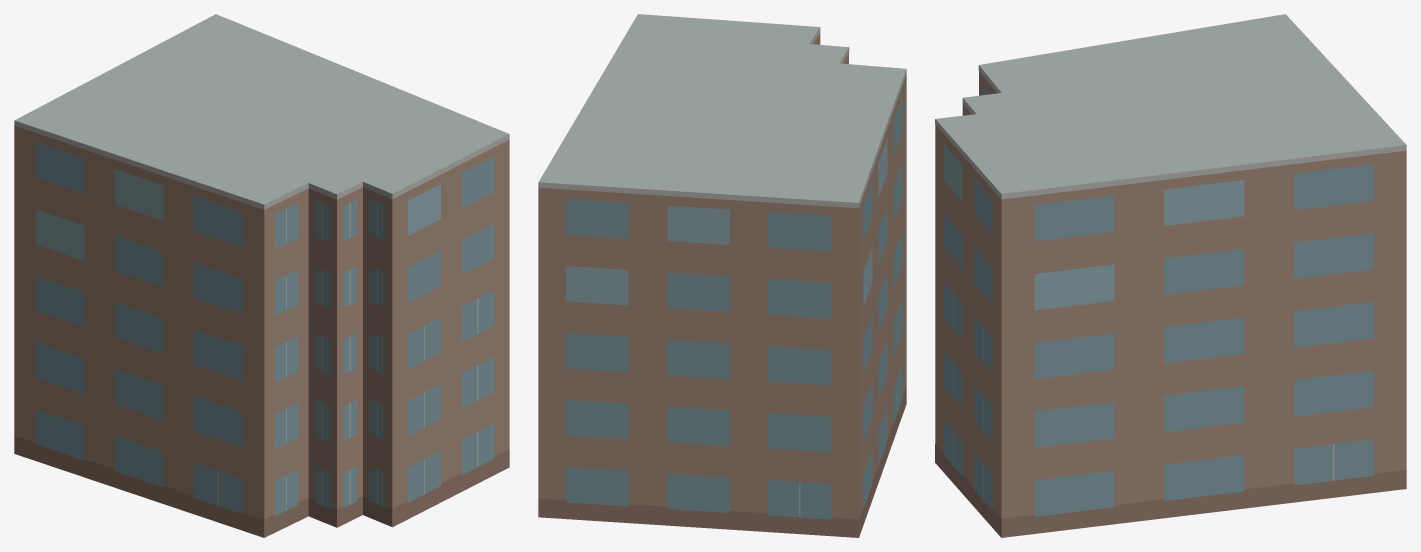
The model's file is survey-upis-32991321.glb.
3 views of the same model, side by side, from view 1: azimuth 30°, elevation 25°; view 2: azimuth 150°, elevation 25°; view 3: azimuth 270°, elevation 25° (orthographic). The views are drawn at different scales.
Visible parts, largest first — view 1: survey-upis-32991321.tmp; view 2: survey-upis-32991321.tmp; view 3: survey-upis-32991321.tmp.
Part boxes in pixels (x1,y1,x2,y2): survey-upis-32991321.tmp: (14,14,509,537); survey-upis-32991321.tmp: (538,14,906,537); survey-upis-32991321.tmp: (935,14,1406,537).
Bounding box in the file's own units: 17.13 × 15.25 × 18.96.
